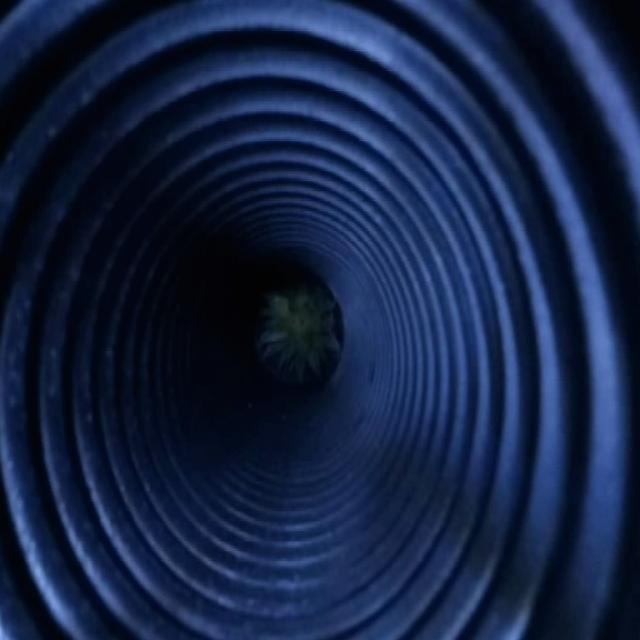leaf: (264, 287, 339, 383)
